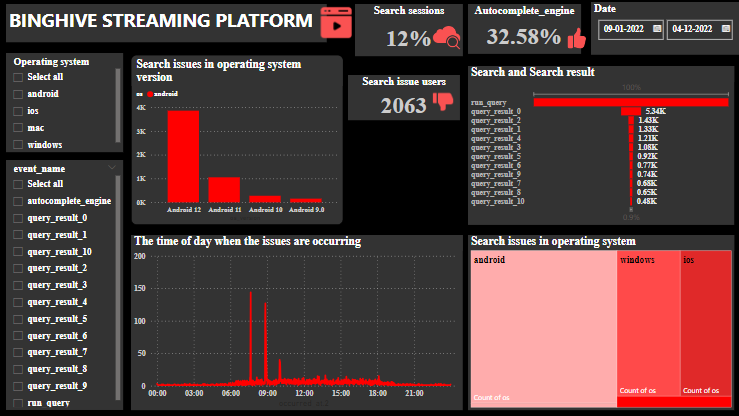

Layout of this report page (visuals, bound fields, positions):
{"tool":"powerbi","page":{"name":"Page 9","canvas":[1280,720],"ordinal":0},"visuals":[{"type":"treemap","title":"Search issues in operating system","fields":{"Values":["key_measures.query_result_0","CountNonNull(user_activity_P_bi.os)"],"Group":["user_activity_P_bi.os"]},"box":[824.4,406.5,444.1,303.2],"z":0},{"type":"lineChart","title":"The time of day when the issues are occurring","fields":{"Category":["user_activity_P_bi.occurred_at.2"],"Y":["key_measures.query_result_0"]},"box":[225.1,201.6,582.9,188.1],"z":1000},{"type":"funnel","title":"Search and Search result","fields":{"Category":["user_activity_P_bi.event_name"],"Y":["CountNonNull(user_activity_P_bi.event_name)"]},"box":[824.8,95.7,443.5,294],"z":2000},{"type":"card","title":"Autocomplete_engine","fields":{"Values":["key_measures.Percentage of autocomplete_engine"]},"box":[609.8,95.7,198.2,92.4],"z":3000},{"type":"clusteredColumnChart","title":"Search issues in operating system version","fields":{"Category":["device_details1_P_bi.os_version"],"Y":["key_measures.query_result_0"],"Series":["user_activity_P_bi.os"]},"box":[228.5,406.5,579.5,302.4],"z":4000},{"type":"card","title":"Search sessions","fields":{"Values":["key_measures.Percentage of Sessions with Search"]},"box":[225.1,95.7,181.4,92.4],"z":5000},{"type":"slicer","title":"Date","fields":{"Values":["user_activity_P_bi.occurred_at.1"]},"box":[1012.9,5,255.3,87.3],"z":6000},{"type":"slicer","fields":{"Values":["user_activity_P_bi.os"]},"box":[12.1,93.1,201.7,170.7],"z":7000},{"type":"slicer","fields":{"Values":["user_activity_P_bi.event_name"]},"box":[12.1,277.6,201.7,431],"z":8000},{"type":"textbox","box":[11.5,8.2,629.3,65.6],"z":9000},{"type":"image","box":[539.2,8.2,116.4,63.9],"z":10000},{"type":"image","box":[349.4,124.3,57.1,63.8],"z":11000},{"type":"image","box":[754.2,124.3,90.7,58.8],"z":12000},{"type":"card","title":"Search issue users","fields":{"Values":["key_measures.Number of users with search issues"]},"box":[416.6,95.7,181.4,92.4],"z":13000},{"type":"image","box":[552.7,124.3,57.1,63.8],"z":14000}]}

Visuals, with their boxes in screenshot pixels (x1, y1, x2, y2), scaled from the page's 1280x720 canvas onto the 739x416 screenshot:
"Search issues in operating system" treemap: bbox(476, 235, 732, 410)
"The time of day when the issues are occurring" lineChart: bbox(130, 116, 466, 225)
"Search and Search result" funnel: bbox(476, 55, 732, 225)
"Autocomplete_engine" card: bbox(352, 55, 466, 109)
"Search issues in operating system version" clusteredColumnChart: bbox(132, 235, 466, 410)
"Search sessions" card: bbox(130, 55, 235, 109)
"Date" slicer: bbox(585, 3, 732, 53)
slicer - user_activity_P_bi.os: bbox(7, 54, 123, 152)
slicer - user_activity_P_bi.event_name: bbox(7, 160, 123, 409)
textbox: bbox(7, 5, 370, 43)
image: bbox(311, 5, 379, 42)
image: bbox(202, 72, 235, 109)
image: bbox(435, 72, 488, 106)
"Search issue users" card: bbox(241, 55, 345, 109)
image: bbox(319, 72, 352, 109)
